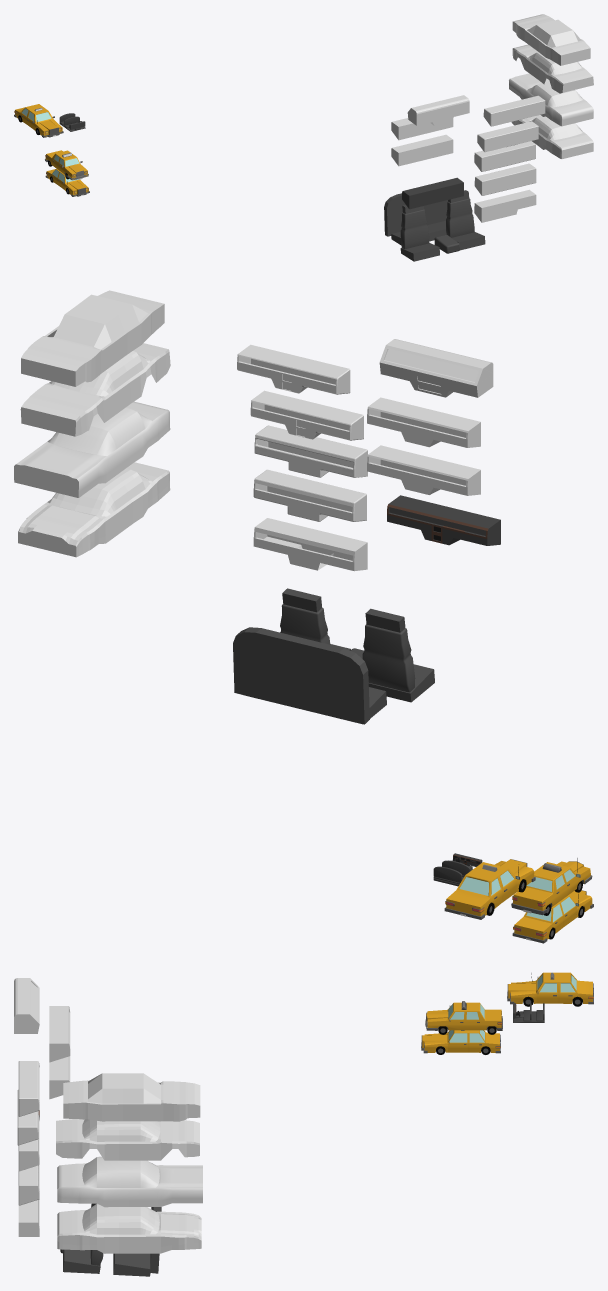
3 views of the same model, one above another, from view 1: azimuth 30°, elevation 25°; view 2: azimuth 150°, elevation 25°; view 3: azimuth 270°, elevation 25° (orthographic). The views are drawn at different scales.
Parts seen in each view (by area): view 1: Cube.002, Cube.001, Cube.003, Cube.004, Bartholomew .003, Cube.019, Interior.011, Cube.011, Cube.016, Cube.007, Cube.008, Cube.009 (+11 smaller); view 2: Interior.009, Cube.002, Cube.001, Cube.004, Cube.003, Interior.011, Bartholomew .003, Cube.016, Cube.019, Cube.017, Cube.007, Cube.010 (+8 smaller); view 3: Cube.001, Cube.004, Cube.002, Cube.003, Bartholomew .003, Bartholomew .001, Bartholomew .004, Interior.011, Cube.010, Cube.008, Interior.008, Cube.019 (+5 smaller).
Boxes of the visible parts, x1,y1,x2,y2 form: Cube.002: [512, 14, 590, 65]; Cube.001: [509, 73, 593, 126]; Cube.003: [512, 44, 593, 93]; Cube.004: [511, 115, 593, 158]; Bartholomew .003: [14, 104, 85, 137]; Cube.019: [474, 163, 536, 195]; Interior.011: [407, 95, 469, 125]; Cube.011: [391, 134, 453, 166]; Cube.016: [474, 189, 536, 222]; Cube.007: [402, 177, 463, 209]; Cube.008: [483, 95, 545, 126]; Cube.009: [477, 121, 538, 152]; Interior.009: [233, 627, 369, 724]; Cube.002: [21, 290, 164, 386]; Cube.001: [14, 401, 170, 497]; Cube.004: [18, 462, 170, 557]; Cube.003: [20, 343, 170, 436]; Interior.011: [379, 339, 493, 397]; Bartholomew .003: [433, 853, 535, 919]; Cube.016: [253, 518, 367, 571]; Cube.019: [253, 469, 366, 521]; Cube.017: [254, 425, 367, 477]; Cube.007: [387, 495, 500, 545]; Cube.010: [367, 397, 480, 447]; Cube.001: [57, 1156, 202, 1207]; Cube.004: [57, 1203, 201, 1253]; Cube.002: [63, 1073, 200, 1121]; Cube.003: [56, 1119, 199, 1160]; Bartholomew .003: [507, 972, 593, 1022]; Bartholomew .001: [425, 1001, 502, 1034]; Bartholomew .004: [421, 1030, 500, 1054]; Interior.011: [14, 978, 39, 1033]; Cube.010: [49, 1006, 70, 1062]; Cube.008: [18, 1061, 39, 1116]; Interior.008: [113, 1253, 150, 1276]; Cube.019: [18, 1165, 39, 1205].
Bounding box in the file's own units: 5314 × 2334 × 4764.
